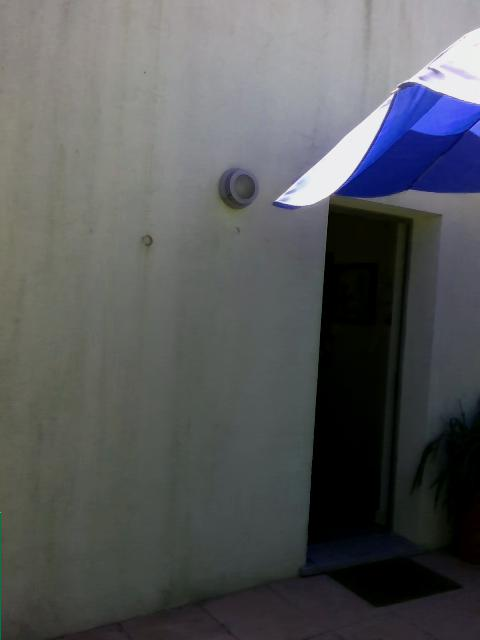open_door: (302, 190, 442, 571)
